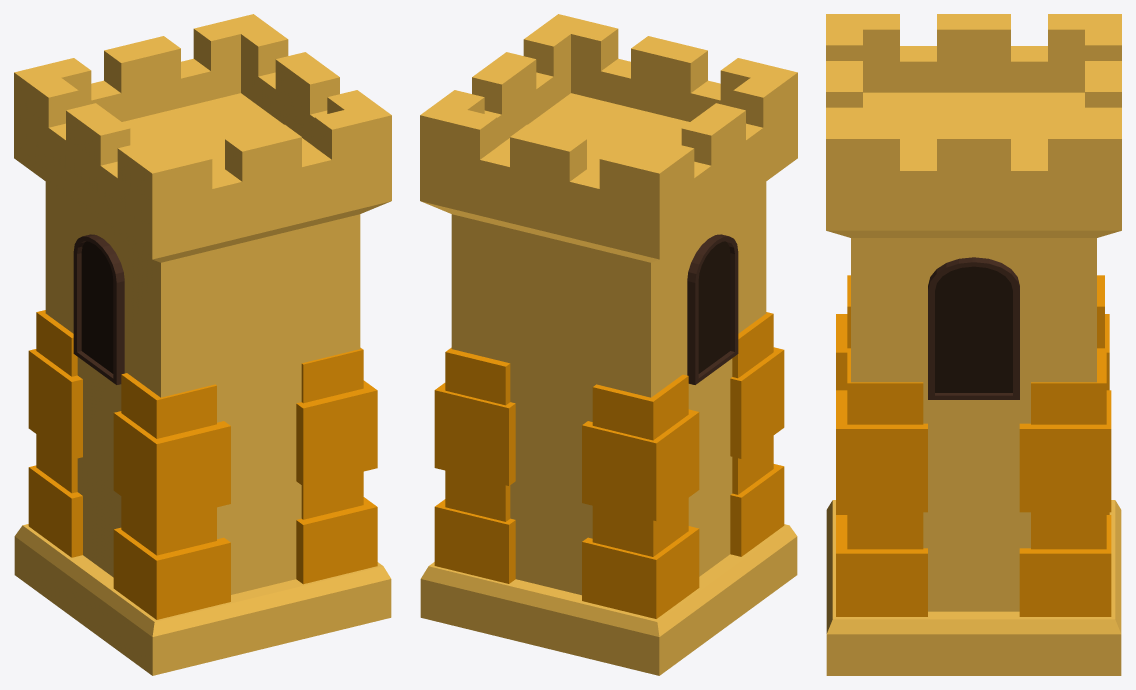
File: Sombrilla 1.fbx
3 views of the same model, side by side, from view 1: azimuth 30°, elevation 25°; view 2: azimuth 150°, elevation 25°; view 3: azimuth 270°, elevation 25° (orthographic). The views are drawn at different scales.
Parts seen in each view (by area): view 1: Torre; view 2: Torre; view 3: Torre.
Boxes of the visible parts, x1,y1,x2,y2 form: Torre: (14,14,391,675); Torre: (420,14,797,675); Torre: (826,14,1121,675).
Size of the model in its own units: 76.7 by 154 by 76.7.
Materials: 1 (1 with a texture image).
